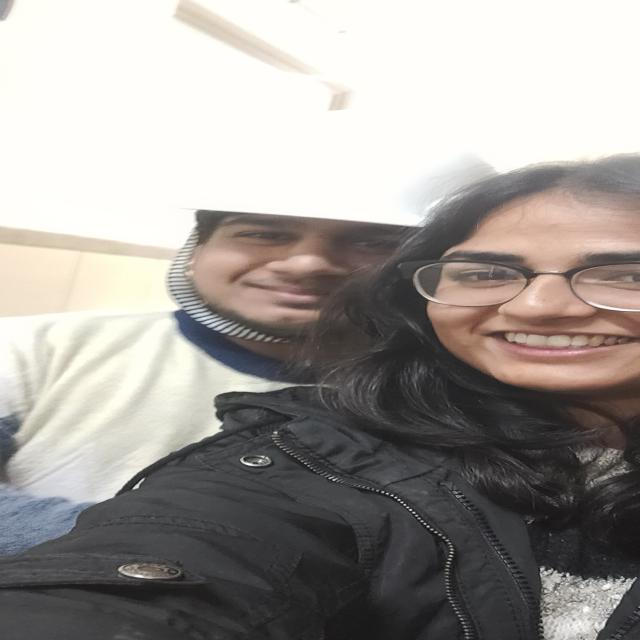no jacket: (3, 132, 415, 468)
unsafe: (216, 155, 640, 640)
